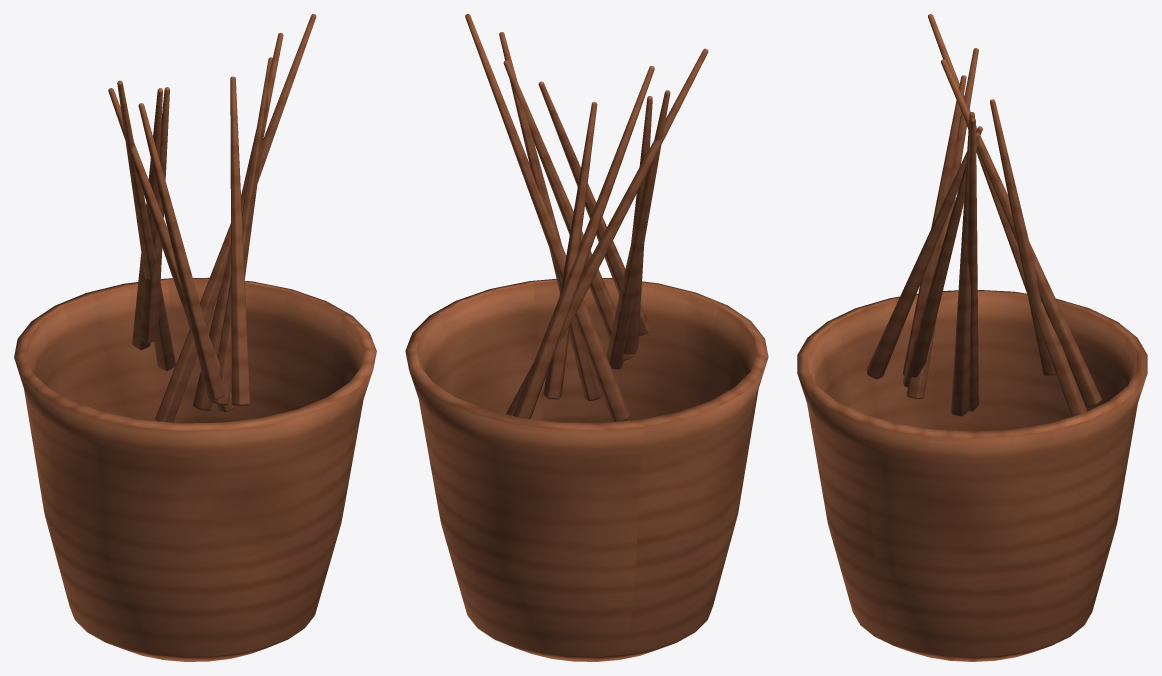
The model's file is p_plantpot.glb.
3 views of the same model, side by side, from view 1: azimuth 30°, elevation 25°; view 2: azimuth 150°, elevation 25°; view 3: azimuth 270°, elevation 25° (orthographic). The views are drawn at different scales.
Parts seen in each view (by area): view 1: plantpot; view 2: plantpot; view 3: plantpot.
Boxes of the visible parts, x1,y1,x2,y2 form: plantpot: [14, 14, 376, 661]; plantpot: [405, 14, 768, 661]; plantpot: [797, 14, 1147, 661].
Size of the model in its own units: 0.4191 by 0.7381 by 0.4161.
1 material, 1 textured.
